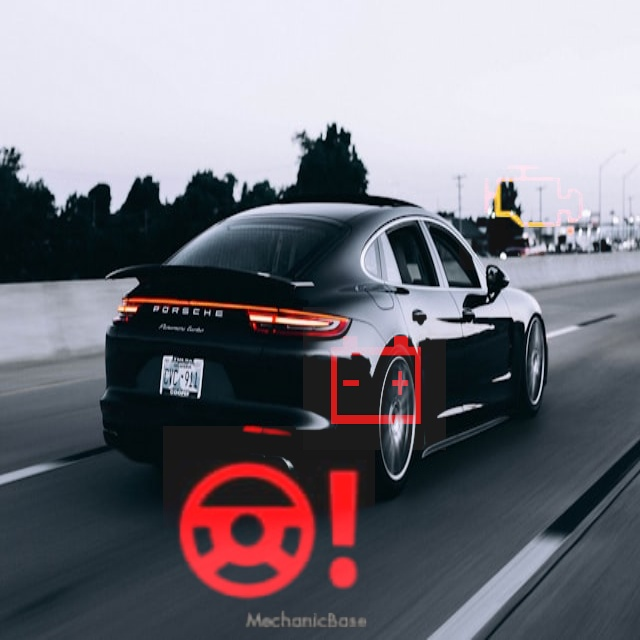symbol: (163, 426, 375, 638), (459, 123, 606, 270), (303, 307, 446, 450)
